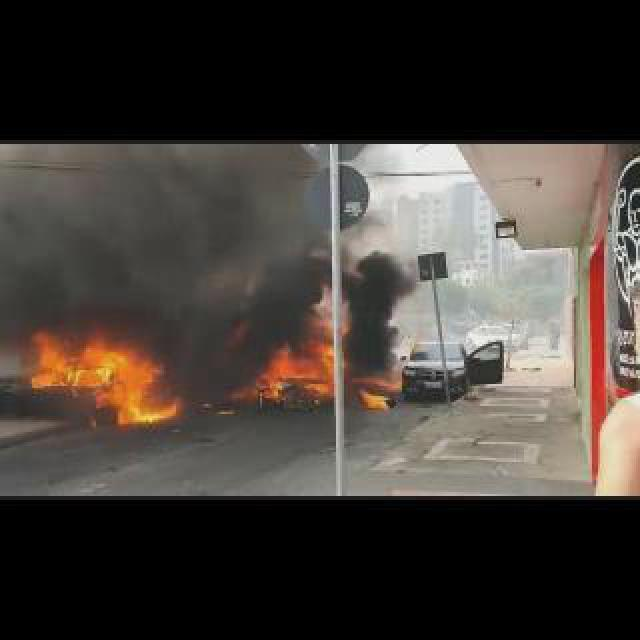Fire: (24, 332, 186, 424), (262, 302, 340, 398), (362, 388, 388, 412)
Smoke: (1, 149, 325, 380), (332, 232, 414, 375)
